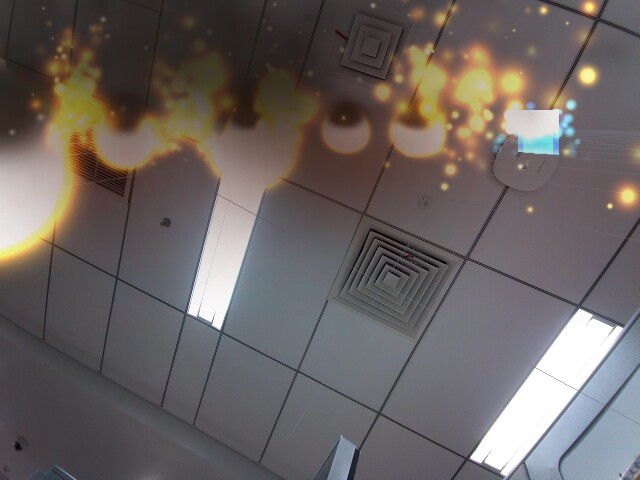fire: (221, 114, 282, 170), (103, 115, 142, 156), (402, 117, 443, 146), (332, 117, 365, 143), (234, 117, 261, 143)
firebig: (0, 117, 35, 223)
